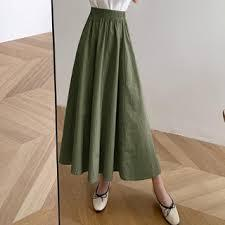skirt: (59, 6, 164, 180)
